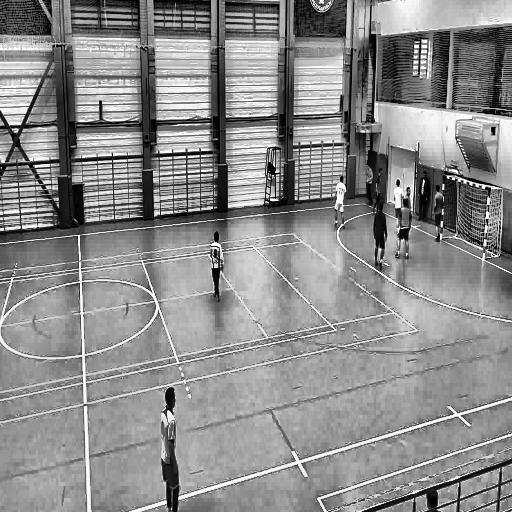player: (160, 382, 184, 512), (372, 198, 389, 272), (210, 230, 224, 309), (395, 197, 412, 262), (333, 175, 349, 234), (417, 167, 430, 226), (432, 182, 443, 246), (393, 177, 402, 237), (372, 166, 383, 214), (364, 159, 374, 209), (404, 185, 414, 233)
